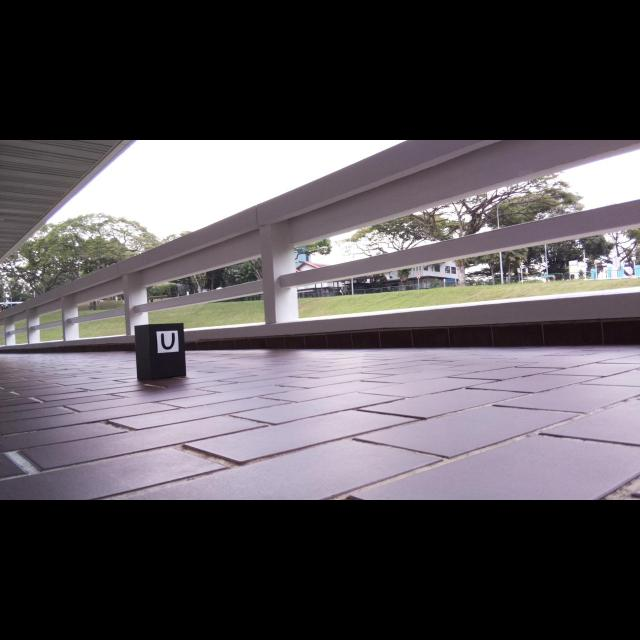U: (161, 333, 175, 350)
